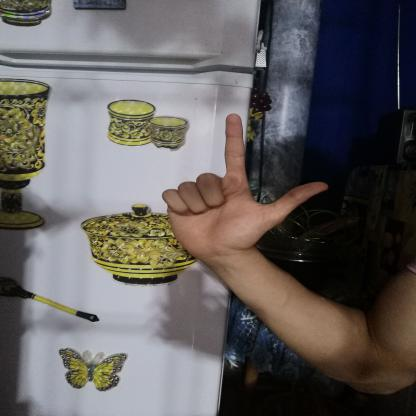LAAM: (146, 106, 340, 273)
